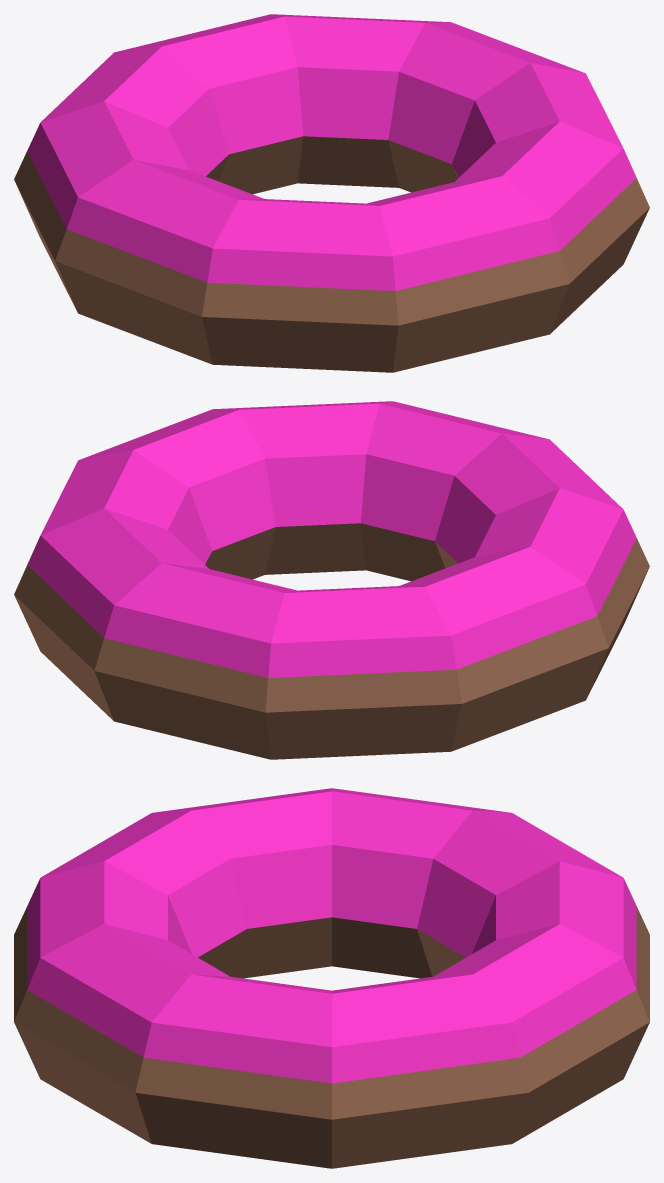
The model's file is Donat.fbx.
3 renders of one model, top to bottom at view 1: azimuth 30°, elevation 25°; view 2: azimuth 150°, elevation 25°; view 3: azimuth 270°, elevation 25°, orthographic. The views are drawn at different scales.
Parts seen in each view (by area): view 1: Donut; view 2: Donut; view 3: Donut.
Part boxes in pixels (box(x1,y1,x2,y2)): Donut: box(14, 14, 649, 372); Donut: box(14, 401, 649, 759); Donut: box(14, 788, 649, 1168).
Size of the model in its own units: 134 by 38 by 127.
